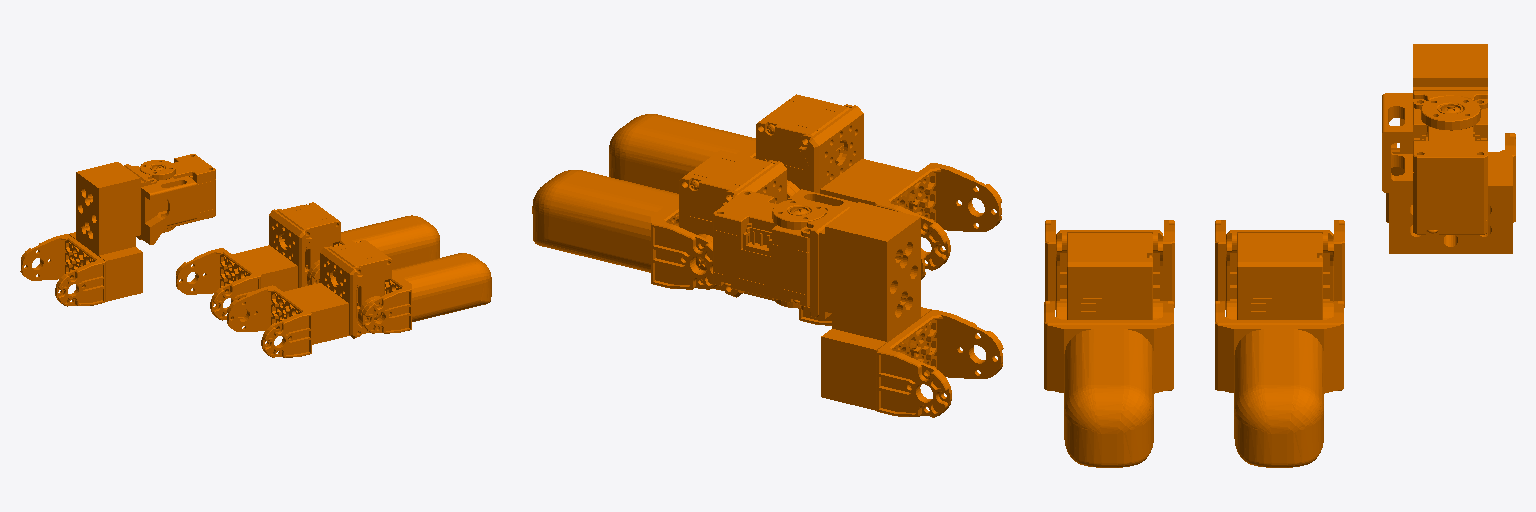
robot.urdf — onshape:
<robot name="onshape">
  <link name="palm_lower">
    <inertial>
      <origin xyz="0.0 0.0 0.0" rpy="0.0 -0.0 0.0"/>
      <mass value="0.237"/>
      <inertia ixx="0.000354094" ixy="-1.193e-06" ixz="-2.445e-06" iyy="0.000260915" iyz="-2.905e-06" izz="0.000529257"/>
    </inertial>
    <visual>
      <geometry>
        <mesh filename="../assets/leap/leap_hand/palm_lower.stl"/>
      </geometry>
      <origin xyz="-0.020095249652862544 0.025757756134899473 -0.034722403578460216" rpy="0.0 -0.0 0.0"/>
      <material name="palm_lower_material">
        <color rgba="0.6039215686274509 0.14901960784313725 0.14901960784313725 1.0"/>
      </material>
    </visual>
    <collision>
      <geometry>
        <mesh filename="../assets/leap/leap_hand/palm_lower.stl"/>
      </geometry>
      <origin xyz="-0.020095249652862544 0.025757756134899473 -0.034722403578460216" rpy="0.0 -0.0 0.0"/>
    </collision>
  </link>
  <link name="mcp_joint_long">
    <inertial>
      <origin xyz="0.0 0.0 0.0" rpy="0.0 -0.0 0.0"/>
      <mass value="0.044"/>
      <inertia ixx="1.1499e-05" ixy="3.049e-06" ixz="1.21e-07" iyy="7.796e-06" iyz="1.12e-07" izz="1.4759e-05"/>
    </inertial>
    <visual>
      <geometry>
        <mesh filename="custom_models/mcp_joint_long.stl"/>
      </geometry>
      <origin xyz="0.008406902261174496 0.0077662438597169954 0.014657354985032912" rpy="1.6375789613221e-15 -1.021047330249102e-30 1.7177968783327987e-31"/>
      <material name="mcp_joint_material">
        <color rgba="0.878 0.467 0.0 1.0"/>
      </material>
    </visual>
    <collision>
      <geometry>
        <mesh filename="custom_models/mcp_joint_long.stl"/>
      </geometry>
      <origin xyz="0.008406902261174496 0.0077662438597169954 0.014657354985032912" rpy="1.6375789613221e-15 -1.021047330249102e-30 1.7177968783327987e-31"/>
    </collision>
  </link>
  <link name="pip">
    <inertial>
      <origin xyz="0.0 0.0 0.0" rpy="0.0 -0.0 0.0"/>
      <mass value="0.032"/>
      <inertia ixx="4.798e-06" ixy="1.2e-08" ixz="4e-09" iyy="2.862e-06" iyz="1.1e-08" izz="4.234e-06"/>
    </inertial>
    <visual>
      <geometry>
        <mesh filename="../assets/leap/leap_hand/pip.stl"/>
      </geometry>
      <origin xyz="0.009643363092271328 0.0002999999999999895 0.0007840340104173765" rpy="-1.5707963267948966 -1.5707963267948963 0.0"/>
      <material name="pip_material">
        <color rgba="0.7490196078431373 0.7490196078431373 0.7490196078431373 1.0"/>
      </material>
    </visual>
    <collision>
      <geometry>
        <mesh filename="../assets/leap/leap_hand/pip.stl"/>
      </geometry>
      <origin xyz="0.009643363092271328 0.0002999999999999895 0.0007840340104173765" rpy="-1.5707963267948966 -1.5707963267948963 0.0"/>
    </collision>
  </link>
  <link name="dip">
    <inertial>
      <origin xyz="0.0 0.0 0.0" rpy="0.0 -0.0 0.0"/>
      <mass value="0.037"/>
      <inertia ixx="5.542e-06" ixy="-6.07e-07" ixz="-1.7e-08" iyy="5.727e-06" iyz="-2.3e-08" izz="6.682e-06"/>
    </inertial>
    <visual>
      <geometry>
        <mesh filename="../assets/leap/leap_hand/dip.stl"/>
      </geometry>
      <origin xyz="0.021133352895225003 -0.00843211914670488 0.00978508816209524" rpy="-3.141592653589793 4.507511124216441e-32 4.439548105392361e-32"/>
      <material name="dip_material">
        <color rgba="0.8666666666666667 0.8666666666666667 0.050980392156862744 1.0"/>
      </material>
    </visual>
    <collision>
      <geometry>
        <mesh filename="../assets/leap/leap_hand/dip.stl"/>
      </geometry>
      <origin xyz="0.021133352895225003 -0.00843211914670488 0.00978508816209524" rpy="-3.141592653589793 4.507511124216441e-32 4.439548105392361e-32"/>
    </collision>
  </link>
  <link name="fingertip">
    <inertial>
      <origin xyz="0.0 0.0 0.0" rpy="0.0 -0.0 0.0"/>
      <mass value="0.016"/>
      <inertia ixx="3.368e-06" ixy="1.15e-07" ixz="0.0" iyy="1.556e-06" iyz="0.0" izz="2.863e-06"/>
    </inertial>
    <visual>
      <geometry>
        <mesh filename="../assets/leap/leap_hand/fingertip.stl"/>
      </geometry>
      <origin xyz="0.013286424108533503 -0.006114238386541987 0.014499999999999498" rpy="3.141592653589793 1.1993117970061735e-33 4.439548105392361e-32"/>
      <material name="fingertip_material">
        <color rgba="0.8666666666666667 0.8666666666666667 0.050980392156862744 1.0"/>
      </material>
    </visual>
    <collision>
      <geometry>
        <mesh filename="../assets/leap/leap_hand/fingertip.stl"/>
      </geometry>
      <origin xyz="0.013286424108533503 -0.006114238386541987 0.014499999999999498" rpy="3.141592653589793 1.1993117970061735e-33 4.439548105392361e-32"/>
    </collision>
  </link>
  <link name="pip_4">
    <inertial>
      <origin xyz="0.0 0.0 0.0" rpy="0.0 -0.0 0.0"/>
      <mass value="0.032"/>
      <inertia ixx="4.798e-06" ixy="1.2e-08" ixz="4e-09" iyy="2.862e-06" iyz="1.1e-08" izz="4.234e-06"/>
    </inertial>
    <visual>
      <geometry>
        <mesh filename="../assets/leap/leap_hand/pip.stl"/>
      </geometry>
      <origin xyz="-0.005356636907728671 0.0002999999999999999 0.0007840340104173782" rpy="-1.5707963267948966 -1.5707963267948963 0.0"/>
      <material name="pip_material">
        <color rgba="0.7490196078431373 0.7490196078431373 0.7490196078431373 1.0"/>
      </material>
    </visual>
    <collision>
      <geometry>
        <mesh filename="../assets/leap/leap_hand/pip.stl"/>
      </geometry>
      <origin xyz="-0.005356636907728671 0.0002999999999999999 0.0007840340104173782" rpy="-1.5707963267948966 -1.5707963267948963 0.0"/>
    </collision>
  </link>
  <link name="thumb_pip">
    <inertial>
      <origin xyz="0.0 0.0 0.0" rpy="0.0 -0.0 0.0"/>
      <mass value="0.003"/>
      <inertia ixx="5.93e-07" ixy="0.0" ixz="0.0" iyy="5.49e-07" iyz="0.0" izz="2.24e-07"/>
    </inertial>
    <visual>
      <geometry>
        <mesh filename="../assets/leap/leap_hand/thumb_pip.stl"/>
      </geometry>
      <origin xyz="0.011961920770611187 -5.30825383648903e-16 -0.0158526489566642" rpy="1.5707963267948966 1.6050198443300153e-46 -3.9204996250525193e-59"/>
      <material name="thumb_pip_material">
        <color rgba="0.8666666666666667 0.8666666666666667 0.050980392156862744 1.0"/>
      </material>
    </visual>
    <collision>
      <geometry>
        <mesh filename="../assets/leap/leap_hand/thumb_pip.stl"/>
      </geometry>
      <origin xyz="0.011961920770611187 -5.30825383648903e-16 -0.0158526489566642" rpy="1.5707963267948966 1.6050198443300153e-46 -3.9204996250525193e-59"/>
    </collision>
  </link>
  <link name="thumb_dip">
    <inertial>
      <origin xyz="0.0 0.0 0.0" rpy="0.0 -0.0 0.0"/>
      <mass value="0.038"/>
      <inertia ixx="8.474e-06" ixy="2.41e-07" ixz="2.6e-08" iyy="3.841e-06" iyz="2.5e-08" izz="7.679e-06"/>
    </inertial>
    <visual>
      <geometry>
        <mesh filename="../assets/leap/leap_hand/thumb_dip.stl"/>
      </geometry>
      <origin xyz="0.043968715707239175 0.0579529529737092 -0.008628676449369476" rpy="1.94289029309401e-16 3.27515792264422e-15 1.112375852965736e-46"/>
      <material name="thumb_dip_material">
        <color rgba="0.8666666666666667 0.8666666666666667 0.050980392156862744 1.0"/>
      </material>
    </visual>
    <collision>
      <geometry>
        <mesh filename="../assets/leap/leap_hand/thumb_dip.stl"/>
      </geometry>
      <origin xyz="0.043968715707239175 0.0579529529737092 -0.008628676449369476" rpy="1.94289029309401e-16 3.27515792264422e-15 1.112375852965736e-46"/>
    </collision>
  </link>
  <link name="thumb_fingertip">
    <inertial>
      <origin xyz="0.0 0.0 0.0" rpy="0.0 -0.0 0.0"/>
      <mass value="0.049"/>
      <inertia ixx="2.0372e-05" ixy="-4.89e-07" ixz="-3e-08" iyy="4.336e-06" iyz="-9.7e-08" izz="1.9845e-05"/>
    </inertial>
    <visual>
      <geometry>
        <mesh filename="../assets/leap/leap_hand/thumb_fingertip.stl"/>
      </geometry>
      <origin xyz="0.06255953846266739 0.07845968291139699 0.048992911807332215" rpy="4.379057701015637e-47 -3.33066907387547e-16 1.2042408677791935e-46"/>
      <material name="thumb_fingertip_material">
        <color rgba="0.6039215686274509 0.14901960784313725 0.14901960784313725 1.0"/>
      </material>
    </visual>
    <collision>
      <geometry>
        <mesh filename="../assets/leap/leap_hand/thumb_fingertip.stl"/>
      </geometry>
      <origin xyz="0.06255953846266739 0.07845968291139699 0.048992911807332215" rpy="4.379057701015637e-47 -3.33066907387547e-16 1.2042408677791935e-46"/>
    </collision>
  </link>
  <link name="mcp_joint_2">
    <inertial>
      <origin xyz="0.0 0.0 0.0" rpy="0.0 -0.0 0.0"/>
      <mass value="0.044"/>
      <inertia ixx="1.1499e-05" ixy="3.049e-06" ixz="1.21e-07" iyy="7.796e-06" iyz="1.12e-07" izz="1.4759e-05"/>
    </inertial>
    <visual>
      <geometry>
        <mesh filename="../assets/leap/leap_hand/mcp_joint.stl"/>
      </geometry>
      <origin xyz="0.008406902261174496 0.0077662438597169954 0.014657354985032914" rpy="1.6375789613221e-15 -1.0076465469034e-30 2.1209300131419907e-61"/>
      <material name="mcp_joint_material">
        <color rgba="0.8666666666666667 0.8666666666666667 0.050980392156862744 1.0"/>
      </material>
    </visual>
    <collision>
      <geometry>
        <mesh filename="../assets/leap/leap_hand/mcp_joint.stl"/>
      </geometry>
      <origin xyz="0.008406902261174496 0.0077662438597169954 0.014657354985032914" rpy="1.6375789613221e-15 -1.0076465469034e-30 2.1209300131419907e-61"/>
    </collision>
  </link>
  <link name="pip_2">
    <inertial>
      <origin xyz="0.0 0.0 0.0" rpy="0.0 -0.0 0.0"/>
      <mass value="0.032"/>
      <inertia ixx="4.798e-06" ixy="1.2e-08" ixz="4e-09" iyy="2.862e-06" iyz="1.1e-08" izz="4.234e-06"/>
    </inertial>
    <visual>
      <geometry>
        <mesh filename="../assets/leap/leap_hand/pip.stl"/>
      </geometry>
      <origin xyz="0.009643363092271328 0.0002999999999999947 0.0007840340104173765" rpy="-1.5707963267948966 -1.5707963267948963 0.0"/>
      <material name="pip_material">
        <color rgba="0.7490196078431373 0.7490196078431373 0.7490196078431373 1.0"/>
      </material>
    </visual>
    <collision>
      <geometry>
        <mesh filename="../assets/leap/leap_hand/pip.stl"/>
      </geometry>
      <origin xyz="0.009643363092271328 0.0002999999999999947 0.0007840340104173765" rpy="-1.5707963267948966 -1.5707963267948963 0.0"/>
    </collision>
  </link>
  <link name="dip_2_long">
    <inertial>
      <origin xyz="0.0 0.0 0.0" rpy="0.0 -0.0 0.0"/>
      <mass value="0.037"/>
      <inertia ixx="5.542e-06" ixy="-6.07e-07" ixz="-1.7e-08" iyy="5.727e-06" iyz="-2.3e-08" izz="6.682e-06"/>
    </inertial>
    <visual>
      <geometry>
        <mesh filename="custom_models/dip_long.stl"/>
      </geometry>
      <origin xyz="0.021133352895225003 -0.008432119146704865 0.009785088162095237" rpy="-3.141592653589793 2.1146933785271956e-32 1.4408183216511869e-31"/>
      <material name="dip_material">
        <color rgba="0.878 0.467 0.0 1.0"/>
      </material>
    </visual>
    <collision>
      <geometry>
        <mesh filename="custom_models/dip_long.stl"/>
      </geometry>
      <origin xyz="0.021133352895225003 -0.008432119146704865 0.009785088162095237" rpy="-3.141592653589793 2.1146933785271956e-32 1.4408183216511869e-31"/>
    </collision>
  </link>
  <link name="fingertip_2_long">
    <inertial>
      <origin xyz="0.0 0.0 0.0" rpy="0.0 -0.0 0.0"/>
      <mass value="0.016"/>
      <inertia ixx="3.368e-06" ixy="1.15e-07" ixz="0.0" iyy="1.556e-06" iyz="0.0" izz="2.863e-06"/>
    </inertial>
    <visual>
      <geometry>
        <mesh filename="custom_models/fingertip_long.stl"/>
      </geometry>
      <origin xyz="0.013286424108533496 -0.006114238386542001 0.014499999999999496" rpy="3.141592653589793 -4.317959788283594e-33 1.4408183216511869e-31"/>
      <material name="fingertip_material">
        <color rgba="0.878 0.467 0.0 1.0"/>
      </material>
    </visual>
    <collision>
      <geometry>
        <mesh filename="custom_models/fingertip_long.stl"/>
      </geometry>
      <origin xyz="0.013286424108533496 -0.006114238386542001 0.014499999999999496" rpy="3.141592653589793 -4.317959788283594e-33 1.4408183216511869e-31"/>
    </collision>
  </link>
  <link name="mcp_joint_3">
    <inertial>
      <origin xyz="0.0 0.0 0.0" rpy="0.0 -0.0 0.0"/>
      <mass value="0.044"/>
      <inertia ixx="1.1499e-05" ixy="3.049e-06" ixz="1.21e-07" iyy="7.796e-06" iyz="1.12e-07" izz="1.4759e-05"/>
    </inertial>
    <visual>
      <geometry>
        <mesh filename="../assets/leap/leap_hand/mcp_joint.stl"/>
      </geometry>
      <origin xyz="0.0084069022611745 0.007766243859716996 0.014657354985032914" rpy="1.6375789613221e-15 -1.0059504988632627e-30 5.729641584552035e-32"/>
      <material name="mcp_joint_material">
        <color rgba="0.8666666666666667 0.8666666666666667 0.050980392156862744 1.0"/>
      </material>
    </visual>
    <collision>
      <geometry>
        <mesh filename="../assets/leap/leap_hand/mcp_joint.stl"/>
      </geometry>
      <origin xyz="0.0084069022611745 0.007766243859716996 0.014657354985032914" rpy="1.6375789613221e-15 -1.0059504988632627e-30 5.729641584552035e-32"/>
    </collision>
  </link>
  <link name="pip_3">
    <inertial>
      <origin xyz="0.0 0.0 0.0" rpy="0.0 -0.0 0.0"/>
      <mass value="0.032"/>
      <inertia ixx="4.798e-06" ixy="1.2e-08" ixz="4e-09" iyy="2.862e-06" iyz="1.1e-08" izz="4.234e-06"/>
    </inertial>
    <visual>
      <geometry>
        <mesh filename="../assets/leap/leap_hand/pip.stl"/>
      </geometry>
      <origin xyz="0.009643363092271331 0.00029999999999998084 0.0007840340104173765" rpy="-1.5707963267948966 -1.5707963267948963 0.0"/>
      <material name="pip_material">
        <color rgba="0.7490196078431373 0.7490196078431373 0.7490196078431373 1.0"/>
      </material>
    </visual>
    <collision>
      <geometry>
        <mesh filename="../assets/leap/leap_hand/pip.stl"/>
      </geometry>
      <origin xyz="0.009643363092271331 0.00029999999999998084 0.0007840340104173765" rpy="-1.5707963267948966 -1.5707963267948963 0.0"/>
    </collision>
  </link>
  <link name="dip_3_long">
    <inertial>
      <origin xyz="0.0 0.0 0.0" rpy="0.0 -0.0 0.0"/>
      <mass value="0.037"/>
      <inertia ixx="5.542e-06" ixy="-6.07e-07" ixz="-1.7e-08" iyy="5.727e-06" iyz="-2.3e-08" izz="6.682e-06"/>
    </inertial>
    <visual>
      <geometry>
        <mesh filename="custom_models/dip_long.stl"/>
      </geometry>
      <origin xyz="0.021133352895225006 -0.008432119146704865 0.009785088162095237" rpy="-3.141592653589793 -1.4095651113919093e-33 1.5565411607615035e-32"/>
      <material name="dip_material">
        <color rgba="0.878 0.467 0.0 1.0"/>
      </material>
    </visual>
    <collision>
      <geometry>
        <mesh filename="custom_models/dip_long.stl"/>
      </geometry>
      <origin xyz="0.021133352895225006 -0.008432119146704865 0.009785088162095237" rpy="-3.141592653589793 -1.4095651113919093e-33 1.5565411607615035e-32"/>
    </collision>
  </link>
  <link name="fingertip_3_long">
    <inertial>
      <origin xyz="0.0 0.0 0.0" rpy="0.0 -0.0 0.0"/>
      <mass value="0.016"/>
      <inertia ixx="3.368e-06" ixy="1.15e-07" ixz="0.0" iyy="1.556e-06" iyz="0.0" izz="2.863e-06"/>
    </inertial>
    <visual>
      <geometry>
        <mesh filename="custom_models/fingertip_long.stl"/>
      </geometry>
      <origin xyz="0.013286424108533501 -0.006114238386541987 0.0144999999999995" rpy="3.141592653589793 8.61707169505754e-33 1.5565411607615035e-32"/>
      <material name="fingertip_material">
        <color rgba="0.878 0.467 0.0 1.0"/>
      </material>
    </visual>
    <collision>
      <geometry>
        <mesh filename="custom_models/fingertip_long.stl"/>
      </geometry>
      <origin xyz="0.013286424108533501 -0.006114238386541987 0.0144999999999995" rpy="3.141592653589793 8.61707169505754e-33 1.5565411607615035e-32"/>
    </collision>
  </link>
  <joint name="1" type="revolute">
    <parent link="palm_lower"/>
    <child link="mcp_joint_long"/>
    <origin xyz="-0.007095249652862546 0.023057756134899472 -0.01872240357846022" rpy="1.570796326794895 1.5707963267948946 0.0"/>
    <axis xyz="0.0 0.0 -1.0"/>
    <limit effort="0.95" velocity="8.48" lower="-0.314" upper="2.23"/>
  </joint>
  <joint name="0" type="revolute">
    <parent link="mcp_joint_long"/>
    <child link="pip"/>
    <origin xyz="-0.012200000000000007713 0.053099999999999994982 0.014500000000000000736" rpy="-1.5707963267948966 -1.0065212660796337e-15 1.5707963267948943"/>
    <axis xyz="0.0 0.0 -1.0"/>
    <limit effort="0.95" velocity="8.48" lower="-1.047" upper="1.047"/>
  </joint>
  <joint name="2" type="revolute">
    <parent link="pip"/>
    <child link="dip"/>
    <origin xyz="0.014999999999999968 0.014299999999999905 -0.012999999999999824" rpy="1.570796326794896 -1.5707963267948963 0.0"/>
    <axis xyz="0.0 0.0 -1.0"/>
    <limit effort="0.95" velocity="8.48" lower="-0.506" upper="1.885"/>
  </joint>
  <joint name="3" type="revolute">
    <parent link="dip"/>
    <child link="fingertip"/>
    <origin xyz="-4.088058249557269e-09 -0.03610000421036737 0.0002000000000000786" rpy="4.5935029425113685e-17 -2.8730071914463795e-16 4.439548105392361e-32"/>
    <axis xyz="0.0 0.0 -1.0"/>
    <limit effort="0.95" velocity="8.48" lower="-0.366" upper="2.042"/>
  </joint>
  <joint name="12" type="revolute">
    <parent link="palm_lower"/>
    <child link="pip_4"/>
    <origin xyz="-0.06939524965286253 -0.0012422438651005258 -0.021622403578460216" rpy="-8.238176646493942e-17 1.5707963267948957 0.0"/>
    <axis xyz="0.0 0.0 -1.0"/>
    <limit effort="0.95" velocity="8.48" lower="-0.349" upper="2.094"/>
  </joint>
  <joint name="13" type="revolute">
    <parent link="pip_4"/>
    <child link="thumb_pip"/>
    <origin xyz="-2.7755575615628914e-17 0.014300000000000005 -0.013000000000000012" rpy="1.570796326794896 -1.5707963267948963 0.0"/>
    <axis xyz="0.0 0.0 -1.0"/>
    <limit effort="0.95" velocity="8.48" lower="-0.47" upper="2.443"/>
  </joint>
  <joint name="14" type="revolute">
    <parent link="thumb_pip"/>
    <child link="thumb_dip"/>
    <origin xyz="0.0 0.014499999999999966 -0.017000000000000053" rpy="-1.5707963267948966 1.6050198443300131e-46 -1.9721522630516625e-31"/>
    <axis xyz="0.0 0.0 -1.0"/>
    <limit effort="0.95" velocity="8.48" lower="-1.2" upper="1.9"/>
  </joint>
  <joint name="15" type="revolute">
    <parent link="thumb_dip"/>
    <child link="thumb_fingertip"/>
    <origin xyz="-1.249000902703301e-16 0.046599999999999864 0.0001999999999999771" rpy="1.506395849149178e-44 5.423418723393526e-31 3.141592653589793"/>
    <axis xyz="0.0 0.0 -1.0"/>
    <limit effort="0.95" velocity="8.48" lower="-1.34" upper="1.88"/>
  </joint>
  <joint name="5" type="revolute">
    <parent link="palm_lower"/>
    <child link="mcp_joint_2"/>
    <origin xyz="-0.007095249652862546 -0.022392243865100525 -0.01872240357846022" rpy="1.570796326794895 1.5707963267948946 0.0"/>
    <axis xyz="0.0 0.0 -1.0"/>
    <limit effort="0.95" velocity="8.48" lower="-0.314" upper="2.23"/>
  </joint>
  <joint name="4" type="revolute">
    <parent link="mcp_joint_2"/>
    <child link="pip_2"/>
    <origin xyz="-0.012200000000000008 0.038099999999999995 0.0145" rpy="-1.5707963267948966 -1.0065212660796337e-15 1.5707963267948943"/>
    <axis xyz="0.0 0.0 -1.0"/>
    <limit effort="0.95" velocity="8.48" lower="-1.047" upper="1.047"/>
  </joint>
  <joint name="6" type="revolute">
    <parent link="pip_2"/>
    <child link="dip_2_long"/>
    <origin xyz="0.014999999999999968 0.014299999999999905 -0.012999999999999824" rpy="1.570796326794896 -1.5707963267948963 0.0"/>
    <axis xyz="0.0 0.0 -1.0"/>
    <limit effort="0.95" velocity="8.48" lower="-0.506" upper="1.885"/>
  </joint>
  <joint name="7" type="revolute">
    <parent link="dip_2_long"/>
    <child link="fingertip_2_long"/>
    <origin xyz="-4.0880582495572692636e-09 -0.051100004210367367397 0.00020000000000007858714" rpy="4.5935029425113685e-17 -2.8730071914463795e-16 4.439548105392361e-32"/>
    <axis xyz="0.0 0.0 -1.0"/>
    <limit effort="0.95" velocity="8.48" lower="-0.366" upper="2.042"/>
  </joint>
  <joint name="9" type="revolute">
    <parent link="palm_lower"/>
    <child link="mcp_joint_3"/>
    <origin xyz="-0.007095249652862546 -0.06784224386510052 -0.01872240357846022" rpy="1.570796326794895 1.5707963267948946 0.0"/>
    <axis xyz="0.0 0.0 -1.0"/>
    <limit effort="0.95" velocity="8.48" lower="-0.314" upper="2.23"/>
  </joint>
  <joint name="8" type="revolute">
    <parent link="mcp_joint_3"/>
    <child link="pip_3"/>
    <origin xyz="-0.012200000000000008 0.038099999999999995 0.0145" rpy="-1.5707963267948966 -1.0065212660796337e-15 1.5707963267948943"/>
    <axis xyz="0.0 0.0 -1.0"/>
    <limit effort="0.95" velocity="8.48" lower="-1.047" upper="1.047"/>
  </joint>
  <joint name="10" type="revolute">
    <parent link="pip_3"/>
    <child link="dip_3_long"/>
    <origin xyz="0.014999999999999968 0.014299999999999905 -0.012999999999999824" rpy="1.570796326794896 -1.5707963267948963 0.0"/>
    <axis xyz="0.0 0.0 -1.0"/>
    <limit effort="0.95" velocity="8.48" lower="-0.506" upper="1.885"/>
  </joint>
  <joint name="11" type="revolute">
    <parent link="dip_3_long"/>
    <child link="fingertip_3_long"/>
    <origin xyz="-4.0880582495572692636e-09 -0.051100004210367367397 0.00020000000000007858714" rpy="4.5935029425113685e-17 -2.8730071914463795e-16 4.439548105392361e-32"/>
    <axis xyz="0.0 0.0 -1.0"/>
    <limit effort="0.95" velocity="8.48" lower="-0.366" upper="2.042"/>
  </joint>
</robot>

--- Render facts (derived) ---
3 views of the same robot in one strip: view 1: azimuth 30°, elevation 25°; view 2: azimuth 150°, elevation 25°; view 3: azimuth 270°, elevation 25° (orthographic).
Model onshape with 17 links and 16 joints (16 revolute), rooted at palm_lower, posed all joints at 0.
Visible links, largest first — view 1: mcp_joint_long, dip_3_long, dip_2_long, fingertip_3_long, fingertip_2_long; view 2: mcp_joint_long, dip_3_long, fingertip_2_long, fingertip_3_long, dip_2_long; view 3: mcp_joint_long, fingertip_3_long, fingertip_2_long, dip_2_long, dip_3_long.
Link boxes in pixels (left/top/right/bottom): mcp_joint_long: left=20, top=154, right=215, bottom=306; dip_3_long: left=227, top=240, right=391, bottom=357; dip_2_long: left=176, top=202, right=340, bottom=320; fingertip_3_long: left=361, top=253, right=491, bottom=333; fingertip_2_long: left=310, top=215, right=439, bottom=284; mcp_joint_long: left=713, top=189, right=1003, bottom=417; dip_3_long: left=756, top=94, right=1001, bottom=270; fingertip_2_long: left=532, top=170, right=716, bottom=289; fingertip_3_long: left=609, top=114, right=794, bottom=199; dip_2_long: left=679, top=150, right=925, bottom=325; mcp_joint_long: left=1382, top=44, right=1515, bottom=253; fingertip_3_long: left=1044, top=301, right=1173, bottom=467; fingertip_2_long: left=1215, top=301, right=1343, bottom=467; dip_2_long: left=1215, top=220, right=1344, bottom=319; dip_3_long: left=1045, top=220, right=1174, bottom=319.
Size in the robot's own frame: 0.1766 by 0.1259 by 0.0549 metres.
Meshes: 11 distinct files referenced, 5 mesh visuals loaded (3 binary STL); not drawn: 12 (reference not matched to a file when rendering).